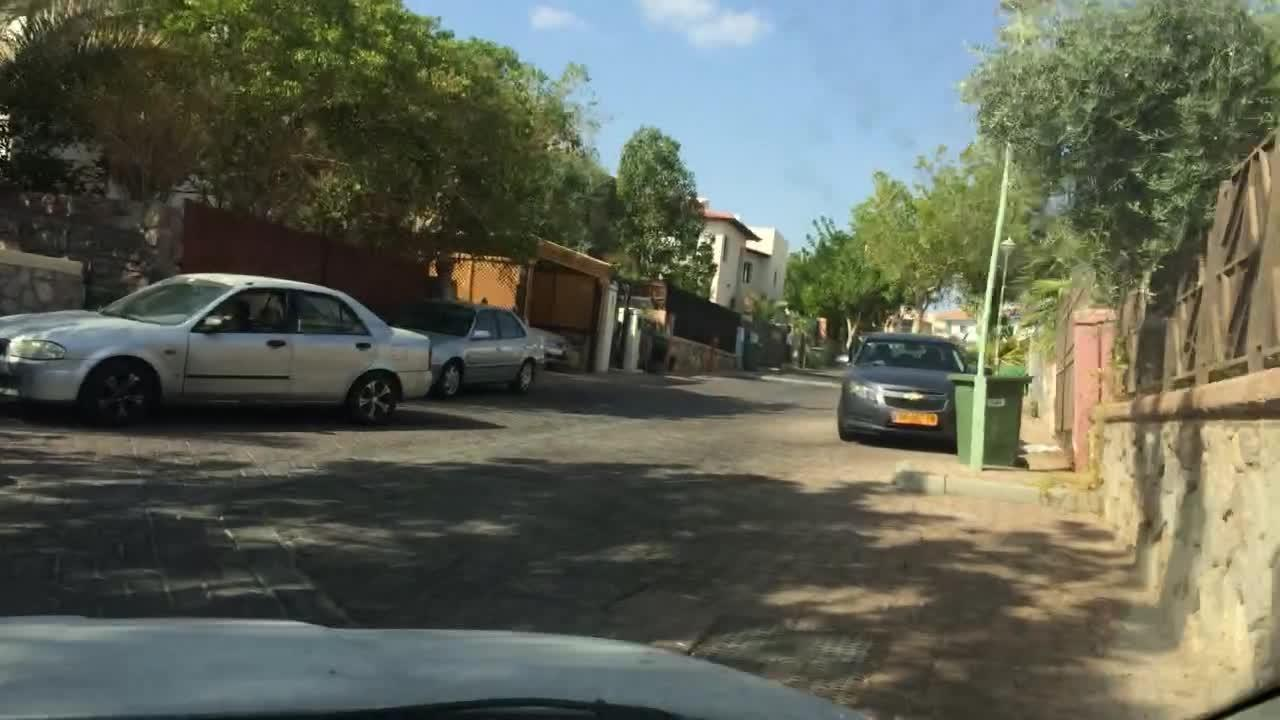chevrolet: (897, 389, 932, 405)
